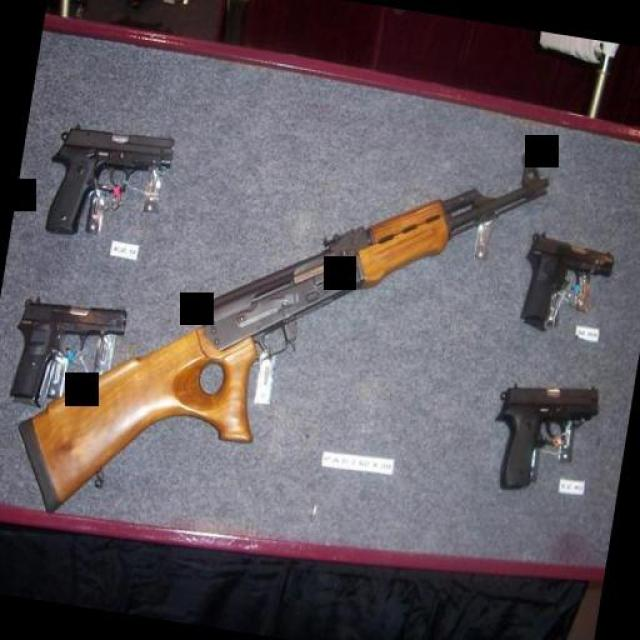gun: (34, 114, 178, 252), (1, 274, 131, 422), (482, 362, 604, 508), (512, 226, 616, 342)
